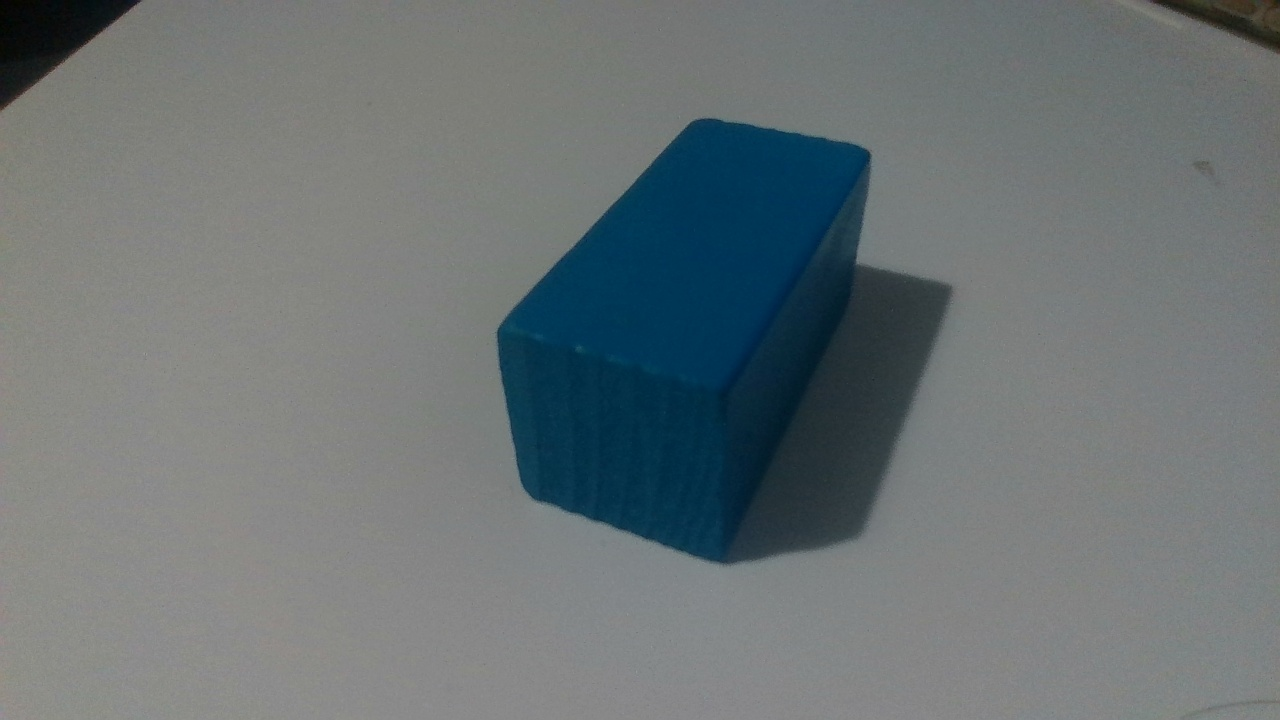cube: (434, 137, 640, 486)
